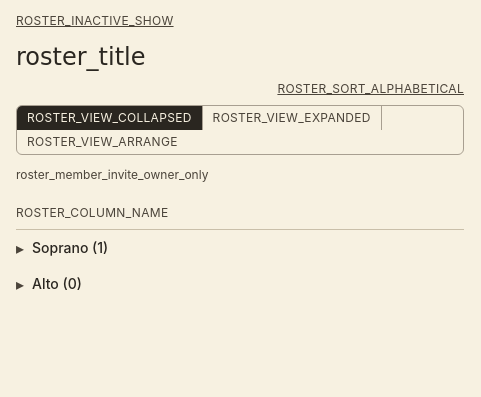
/roster over the REAL listSections — CORRECTED data: a section-parented Soprano II renders NESTED (the acceptance shape for the live data fix) › Soprano II's group renders INSIDE Soprano's group at data-depth 1, with Ada's row in it; Soprano's header roll-up counts her
This screenshot has width=481, height=397.
Check: the element with test id "roster-groups" is shown, box top-left (16, 236), bottom-right (108, 296)
What coordinates should you click on to do the following:
click the button with test id "roster-view-chip-expanded"
I would click on:
 (292, 118)
Its box is top-left (203, 106), bottom-right (382, 130).
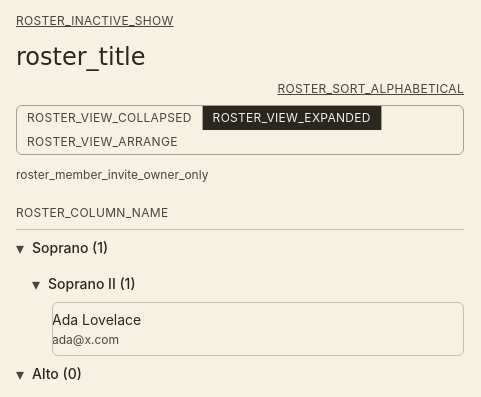
Check: the list item with test id "roster-row-m-ada" is shown, box top-left (52, 302), bottom-right (464, 356)
